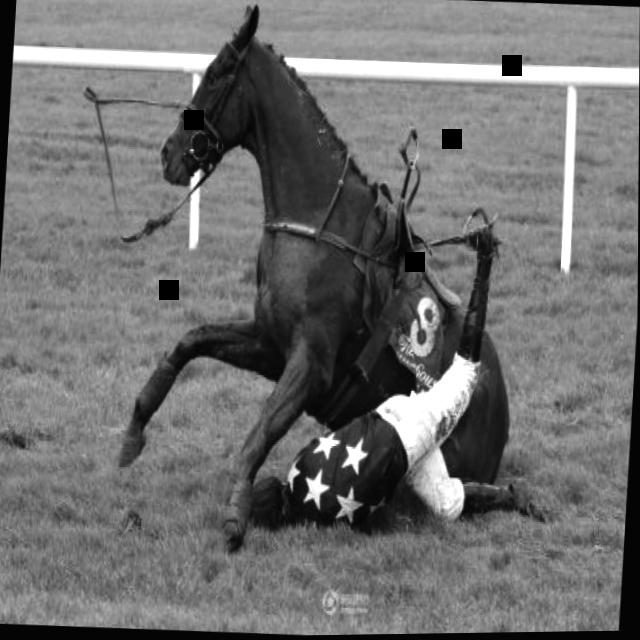Fall-Detected: (240, 298, 530, 563)
